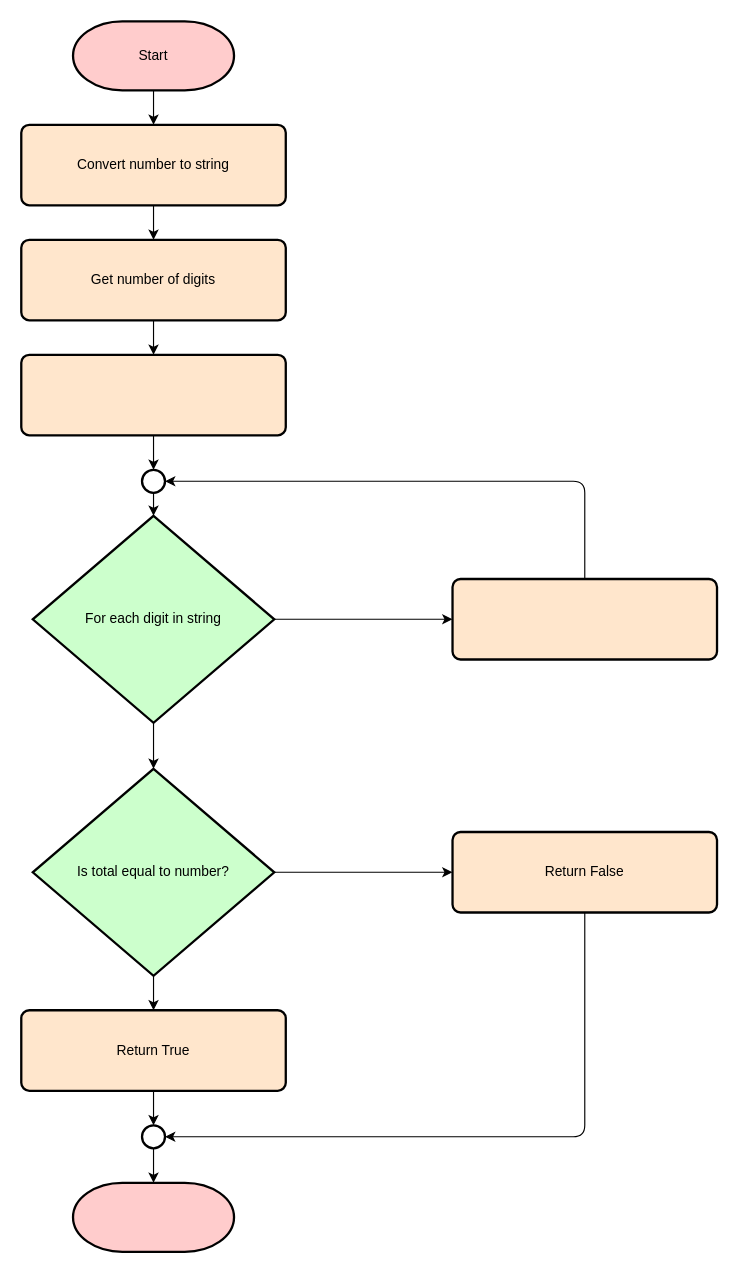
This 737x1272 diagram has some shape labels left out. The shapes that lost their labels are listed below. From the top down, each one's centre as x and y in pixels, then its label:
At point 153,394: "Initialize total to 0".
At point 584,618: "Add digit".
At point 153,1216: "Stop".
